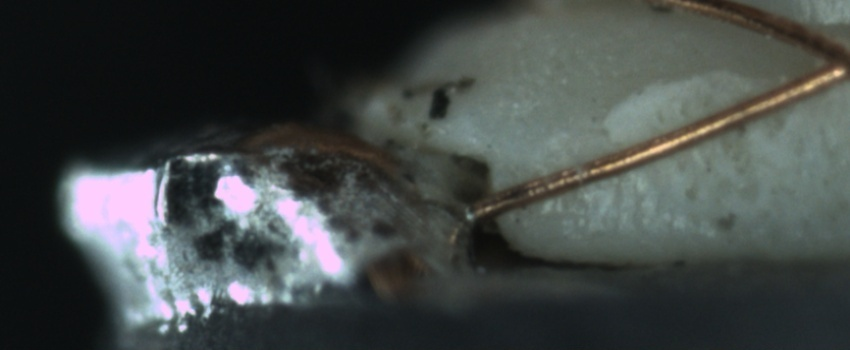CL: (793, 24, 850, 92)
